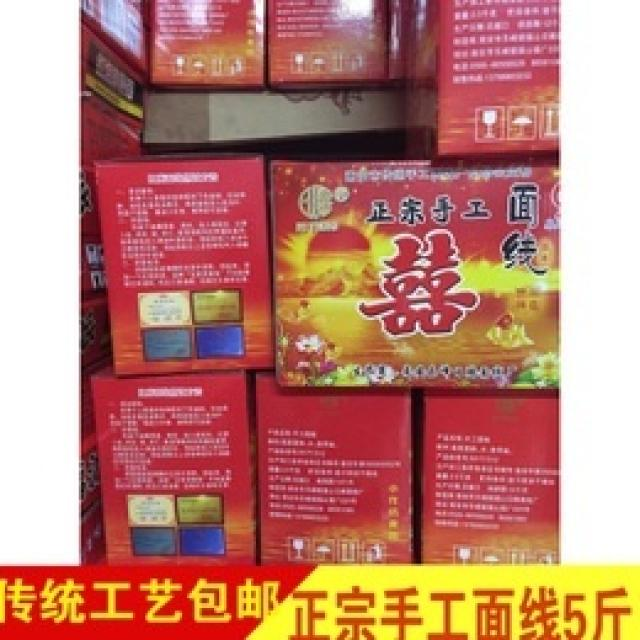box: (266, 153, 561, 391), (91, 150, 278, 374), (91, 362, 256, 566), (256, 367, 411, 566), (404, 0, 561, 158), (423, 389, 559, 566), (145, 84, 404, 143), (81, 17, 150, 234), (266, 0, 384, 94), (153, 0, 266, 94), (81, 352, 111, 566), (81, 0, 150, 79), (81, 231, 111, 369)
